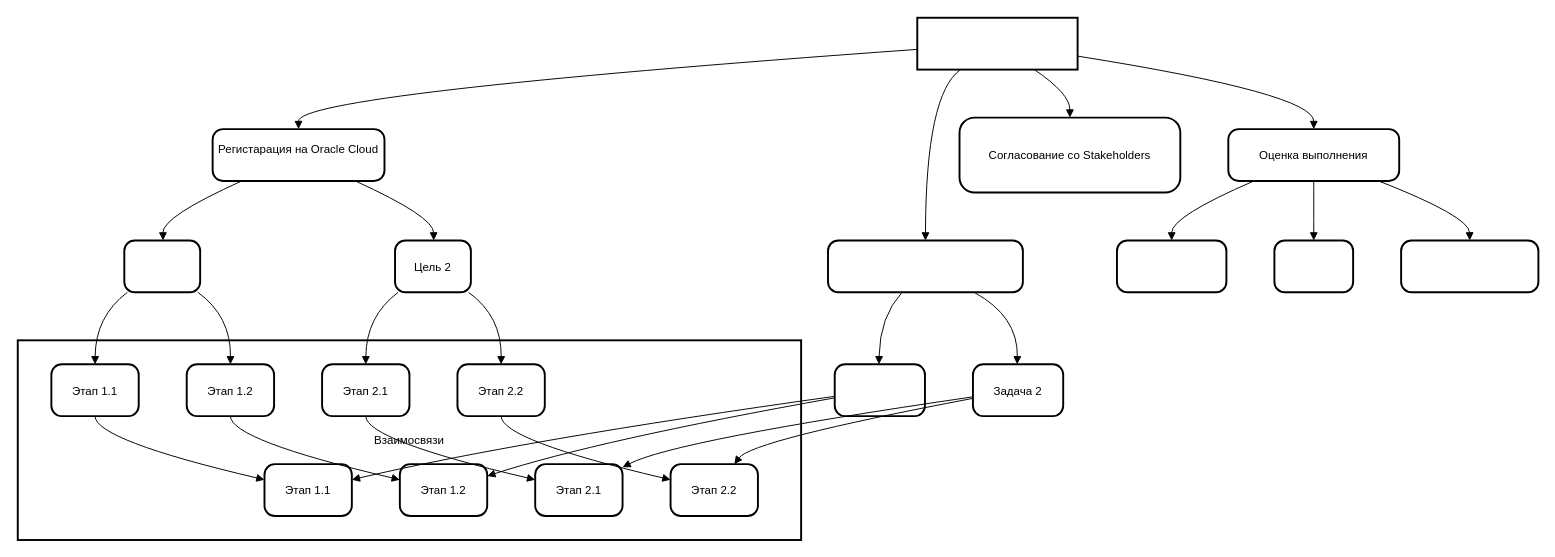
The diagram is 1555 pixels wide and 557 high, and some of its shapes have lost their labels. Each missing label, with the centre of its shape:
"Анализ" goes at point 1313,266.
"Задача 1" goes at point 879,390.
"Корректировки" goes at point 1469,266.
"Результаты" goes at point 1171,266.
"Формулирование задач" goes at point 925,266.
"Цели и задачи" goes at point 997,43.
"Цель 1" goes at point 162,266.
